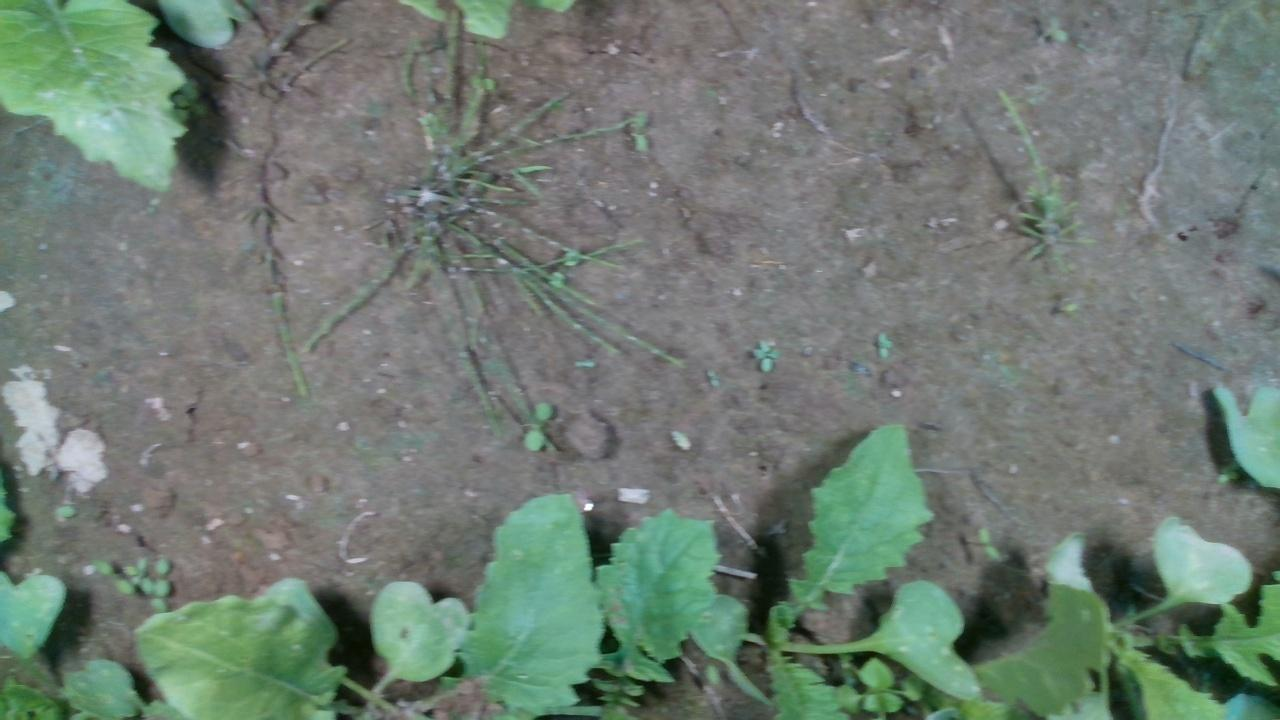weed: (750, 335, 778, 374), (873, 325, 892, 360), (704, 367, 720, 390)
